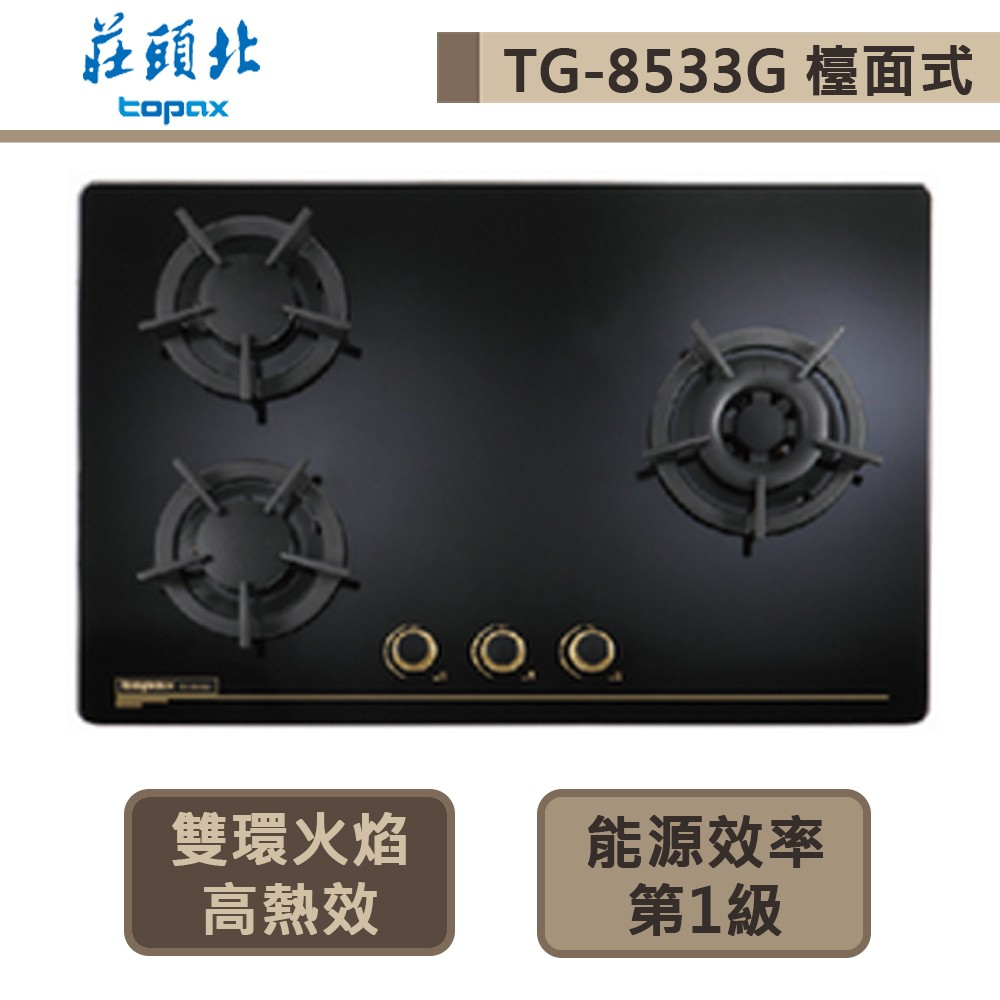gasoven: (64, 166, 940, 737)
